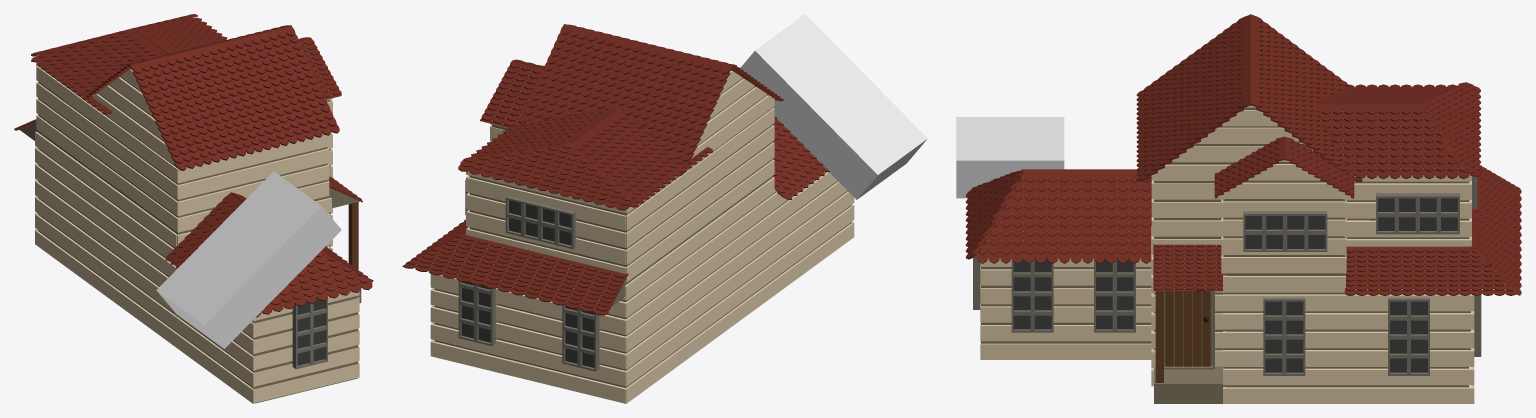
Rendered from house_big.fbx.
The picture shows the model from 3 angles, left to right: view 1: azimuth 30°, elevation 25°; view 2: azimuth 150°, elevation 25°; view 3: azimuth 270°, elevation 25°; orthographic projection. The views are drawn at different scales.
Visible parts, largest first — view 1: Cube.179, Cube.150, Cube.151, Cube.149, Cube.156, Cube.152, Cube.145, Cube.187, Cube.189, Cube.160, Cube.170, Cube.186 (+6 smaller); view 2: Cube.150, Cube.151, Cube.180, Cube.161, Cube.149, Cube.185, Cube.162, Cube.145, Cube.187, Cube.188, Cube.186, Cube.160 (+6 smaller); view 3: Cube.148, Cube.191, Cube.145, Cube.179, Cube.154, Cube.186, Cube.159, Cube.180, Cube.158, Cube.183, Cube.151, Cube.155 (+19 smaller).
Part boxes in pixels (x1=…): Cube.179: x1=129, y1=26, x2=339, y2=170; Cube.150: x1=35, y1=131, x2=255, y2=403; Cube.151: x1=156, y1=171, x2=341, y2=348; Cube.149: x1=36, y1=55, x2=179, y2=232; Cube.156: x1=177, y1=133, x2=329, y2=232; Cube.152: x1=252, y1=290, x2=359, y2=402; Cube.145: x1=19, y1=36, x2=361, y2=403; Cube.187: x1=31, y1=30, x2=167, y2=114; Cube.189: x1=256, y1=251, x2=372, y2=317; Cube.160: x1=93, y1=69, x2=175, y2=165; Cube.170: x1=292, y1=298, x2=327, y2=369; Cube.186: x1=137, y1=17, x2=227, y2=54; Cube.150: x1=624, y1=171, x2=854, y2=403; Cube.151: x1=740, y1=14, x2=927, y2=199; Cube.180: x1=518, y1=24, x2=733, y2=176; Cube.161: x1=430, y1=274, x2=626, y2=403; Cube.149: x1=625, y1=98, x2=774, y2=282; Cube.185: x1=402, y1=233, x2=628, y2=315; Cube.162: x1=467, y1=170, x2=625, y2=281; Cube.145: x1=416, y1=49, x2=852, y2=387; Cube.187: x1=570, y1=110, x2=713, y2=207; Cube.188: x1=458, y1=142, x2=632, y2=210; Cube.186: x1=460, y1=107, x2=617, y2=166; Cube.160: x1=687, y1=70, x2=773, y2=169; Cube.148: x1=1223, y1=276, x2=1471, y2=403; Cube.191: x1=976, y1=169, x2=1151, y2=263; Cube.145: x1=981, y1=107, x2=1505, y2=403; Cube.179: x1=1136, y1=15, x2=1250, y2=181; Cube.154: x1=981, y1=257, x2=1151, y2=359; Cube.186: x1=1316, y1=104, x2=1469, y2=179; Cube.159: x1=1223, y1=160, x2=1345, y2=273; Cube.180: x1=1249, y1=14, x2=1362, y2=181; Cube.158: x1=1154, y1=127, x2=1369, y2=245; Cube.183: x1=1344, y1=246, x2=1515, y2=295; Cube.151: x1=956, y1=117, x2=1064, y2=198; Cube.155: x1=1346, y1=174, x2=1471, y2=246.
Bounding box in the file's own units: 1485 × 1416 × 2539.
